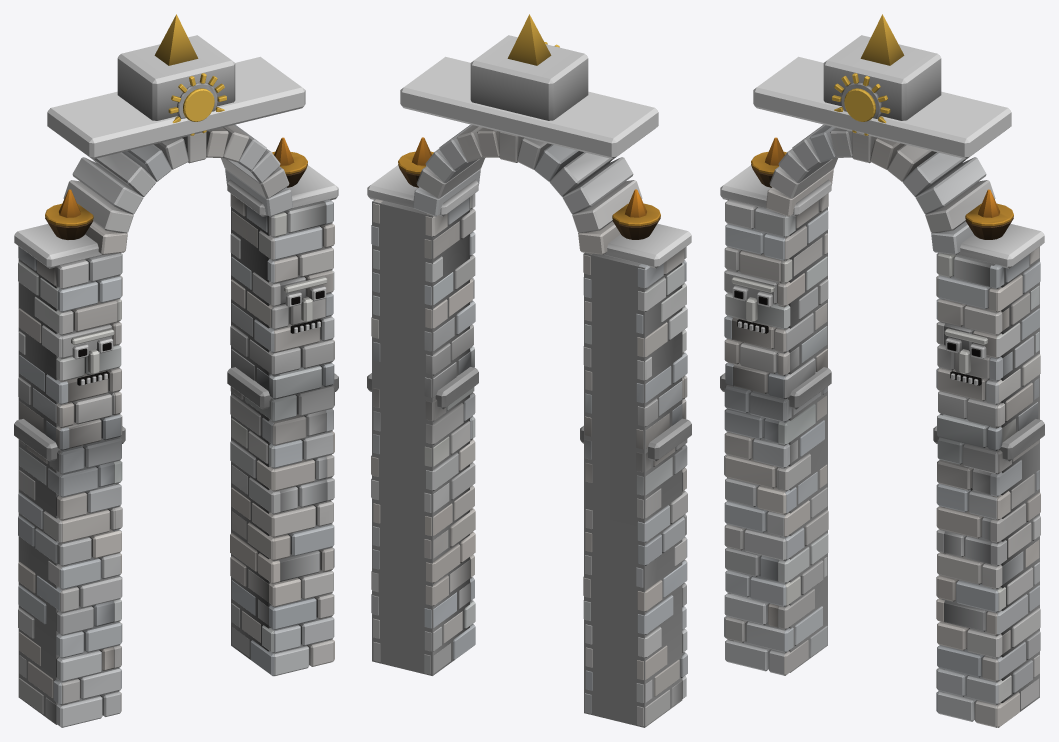
File: HeroSummitGate.fbx
The picture shows the model from 3 angles, left to right: view 1: azimuth 30°, elevation 25°; view 2: azimuth 150°, elevation 25°; view 3: azimuth 330°, elevation 25°; orthographic projection.
Visible parts, largest first — view 1: HeroSummitGate__Limestone, HeroSummitGate__Paint, HeroSummitGate__Ember; view 2: HeroSummitGate__Limestone, HeroSummitGate__Paint, HeroSummitGate__Ember; view 3: HeroSummitGate__Limestone, HeroSummitGate__Paint, HeroSummitGate__Ember.
Part boxes in pixels (bbox=[...]): HeroSummitGate__Limestone: bbox=[14, 35, 338, 727]; HeroSummitGate__Paint: bbox=[45, 14, 324, 385]; HeroSummitGate__Ember: bbox=[59, 137, 294, 217]; HeroSummitGate__Limestone: bbox=[367, 35, 691, 727]; HeroSummitGate__Paint: bbox=[398, 14, 660, 239]; HeroSummitGate__Ember: bbox=[412, 137, 646, 217]; HeroSummitGate__Limestone: bbox=[720, 35, 1044, 727]; HeroSummitGate__Paint: bbox=[734, 14, 1013, 385]; HeroSummitGate__Ember: bbox=[765, 137, 999, 217].
Size of the model in its own units: 3.51 by 7.64 by 1.03.
